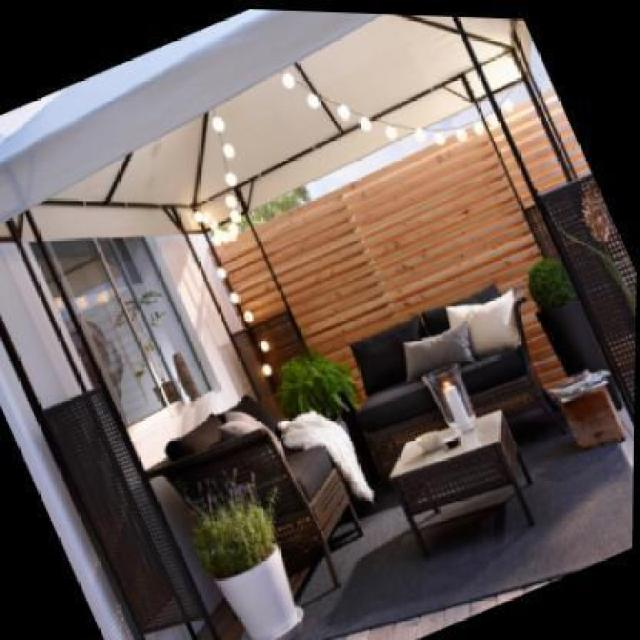tables: (388, 408, 534, 557)
